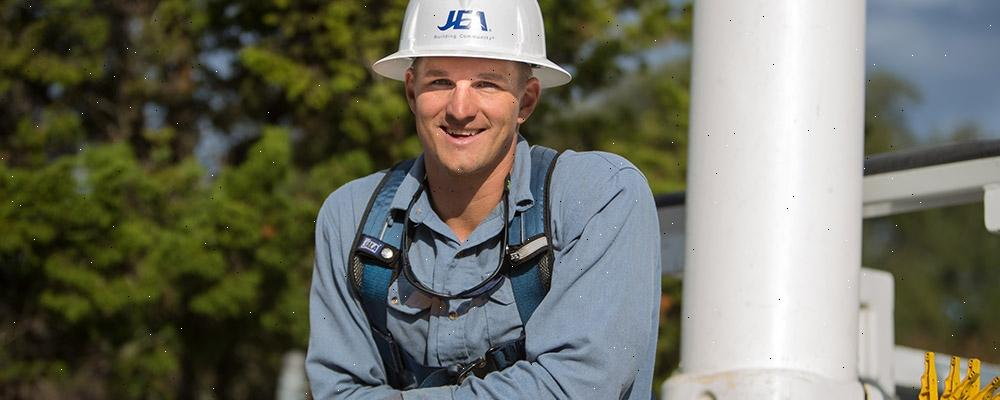helmet: (367, 1, 575, 86)
wear: (316, 173, 658, 400)
